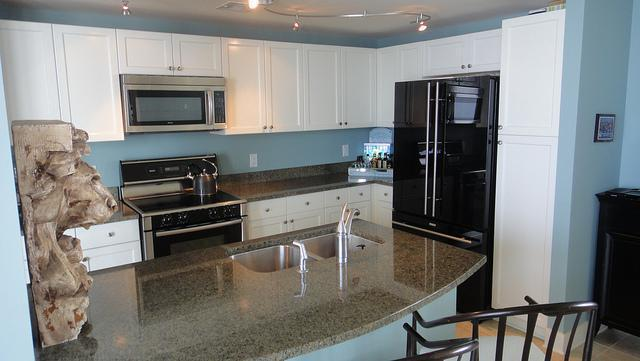Lavaplatos: (223, 202, 384, 275)
